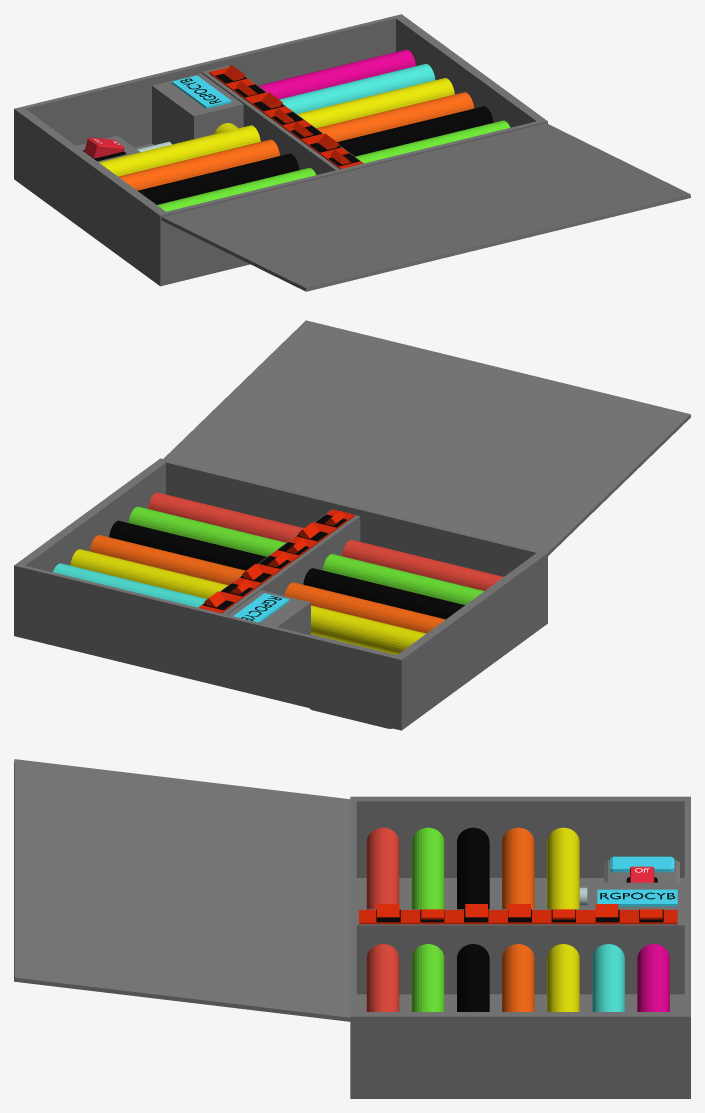
Rendered from FuseBox.fbx.
3 renders of one model, top to bottom at view 1: azimuth 30°, elevation 25°; view 2: azimuth 150°, elevation 25°; view 3: azimuth 270°, elevation 25°, orthographic. The views are drawn at different scales.
Visible parts, largest first — view 1: Cube.007, Cube.002, Cylinder.002, Cylinder.004, Cylinder.003, Cube.004, Cylinder.001, Cylinder.005, Cylinder.006, Cube, Cube.008, Cube.005 (+1 smaller); view 2: Cube.007, Cube.002, Cylinder.004, Cylinder.001, Cylinder, Cylinder.002, Cylinder.003, Cube, Cylinder.005, Cube.004, Cube.008, Cube.005; view 3: Cube.007, Cube.002, Cube, Cylinder.001, Cylinder.004, Cylinder, Cylinder.003, Cylinder.002, Cube.008, Cylinder.006, Cylinder.005, Cube.004 (+3 smaller).
Boxes of the visible parts, x1,y1,x2,y2 form: Cube.007: [161, 123, 690, 291]; Cube.002: [14, 14, 547, 286]; Cylinder.002: [137, 106, 493, 204]; Cylinder.004: [99, 78, 454, 176]; Cylinder.003: [118, 92, 474, 190]; Cube.004: [152, 73, 243, 144]; Cylinder.001: [157, 120, 510, 211]; Cylinder.005: [279, 63, 435, 113]; Cylinder.006: [258, 49, 415, 99]; Cube: [201, 65, 363, 174]; Cube.008: [209, 67, 363, 169]; Cube.005: [172, 75, 231, 108]; Cube.007: [163, 320, 690, 555]; Cube.002: [14, 458, 547, 730]; Cylinder.004: [70, 549, 425, 654]; Cylinder.001: [128, 506, 484, 604]; Cylinder: [148, 492, 503, 590]; Cylinder.002: [109, 520, 464, 619]; Cylinder.003: [90, 535, 445, 633]; Cube: [190, 509, 360, 680]; Cylinder.005: [53, 563, 206, 607]; Cube.004: [228, 590, 310, 635]; Cube.008: [198, 509, 354, 613]; Cube.005: [233, 593, 289, 622]; Cube.007: [14, 759, 350, 1021]; Cube.002: [350, 796, 690, 1098]; Cube: [356, 909, 684, 994]; Cylinder.001: [411, 827, 444, 1011]; Cylinder.004: [547, 827, 579, 1011]; Cylinder: [366, 827, 399, 1011]; Cylinder.003: [502, 827, 534, 1011]; Cylinder.002: [457, 827, 489, 1011]; Cube.008: [359, 910, 677, 924]; Cylinder.006: [637, 944, 669, 1011]; Cylinder.005: [592, 944, 624, 1011]; Cube.004: [587, 882, 684, 909].
Size of the model in its own units: 447 by 122 by 581.
